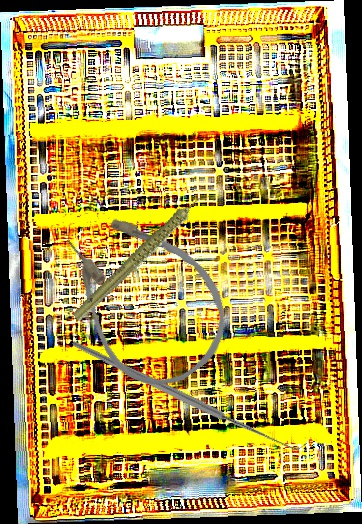Cannula: (39, 185, 250, 407)
Handpiece: (52, 189, 234, 325)
Hook Surgical: (71, 265, 308, 522)
